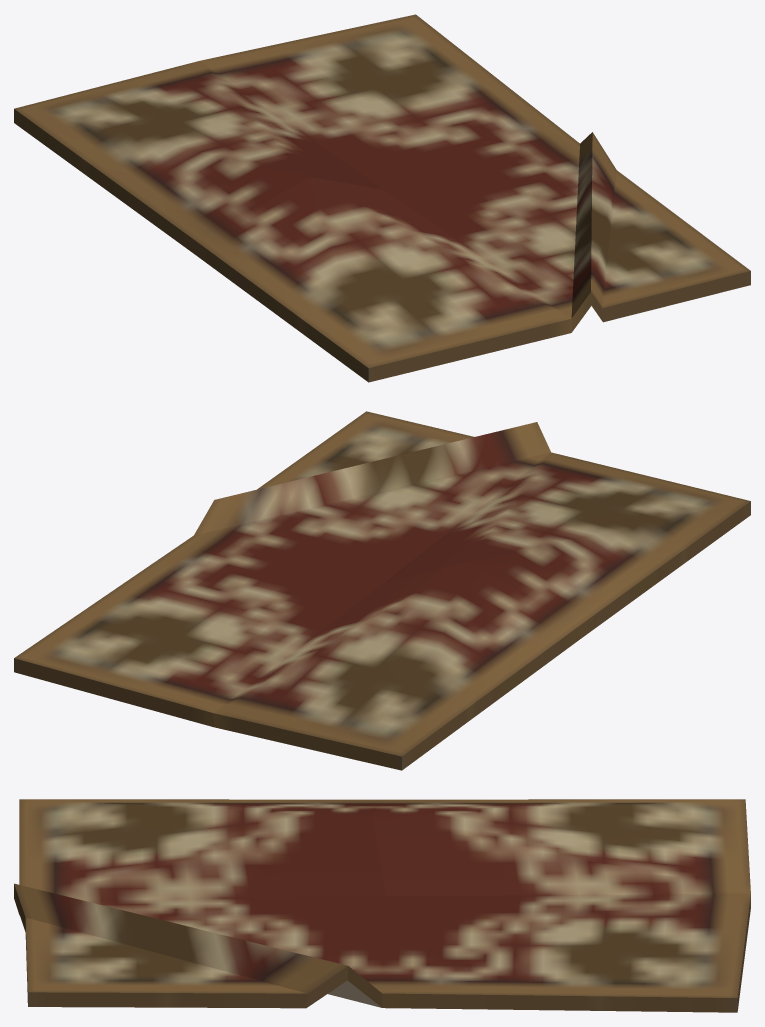
File: SM_Prop_Rug_26.glb
3 renders of one model, top to bottom at view 1: azimuth 30°, elevation 25°; view 2: azimuth 150°, elevation 25°; view 3: azimuth 270°, elevation 25°, orthographic. The views are drawn at different scales.
Visible parts, largest first — view 1: SM_Prop_Rug_26; view 2: SM_Prop_Rug_26; view 3: SM_Prop_Rug_26.
Part boxes in pixels (box(x1,y1,x2,y2)): SM_Prop_Rug_26: box(14, 14, 750, 382); SM_Prop_Rug_26: box(14, 411, 750, 770); SM_Prop_Rug_26: box(14, 799, 750, 1012).
Size of the model in its own units: 0.9769 by 0.1199 by 1.53.
Materials: 1 (1 with a texture image).
